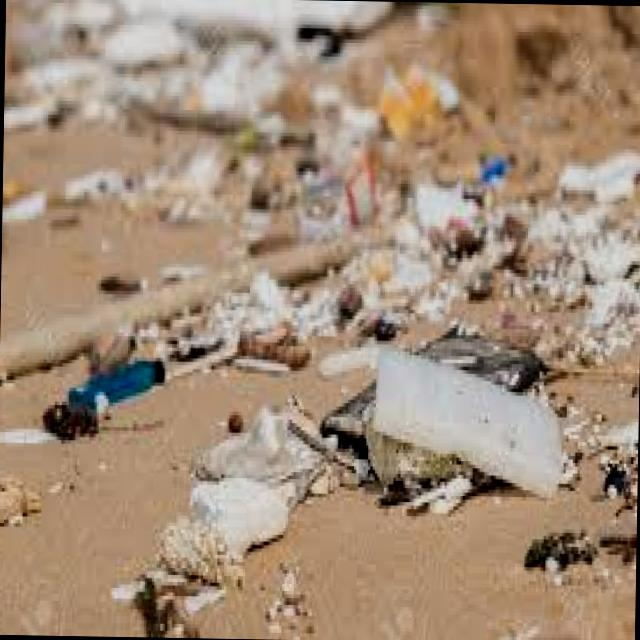garbage: (35, 81, 640, 635)
